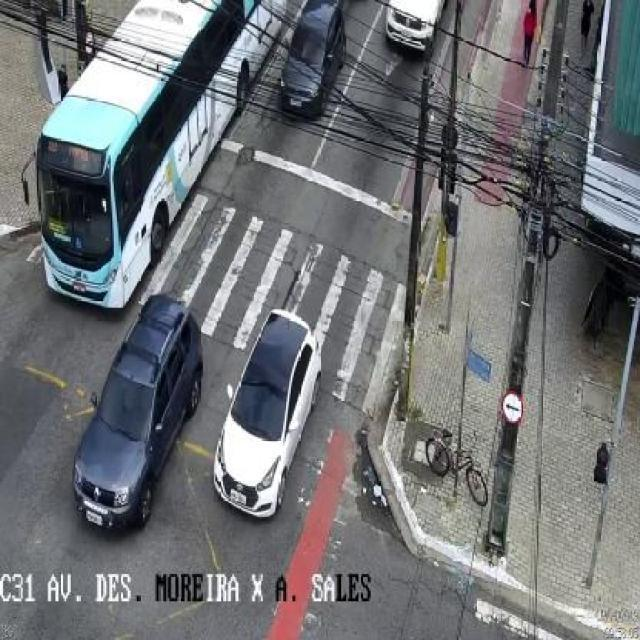Bus: (18, 0, 288, 310)
Car: (70, 293, 206, 532), (213, 306, 323, 520), (277, 0, 346, 121), (383, 0, 443, 54)
Cycle: (425, 428, 489, 507)
